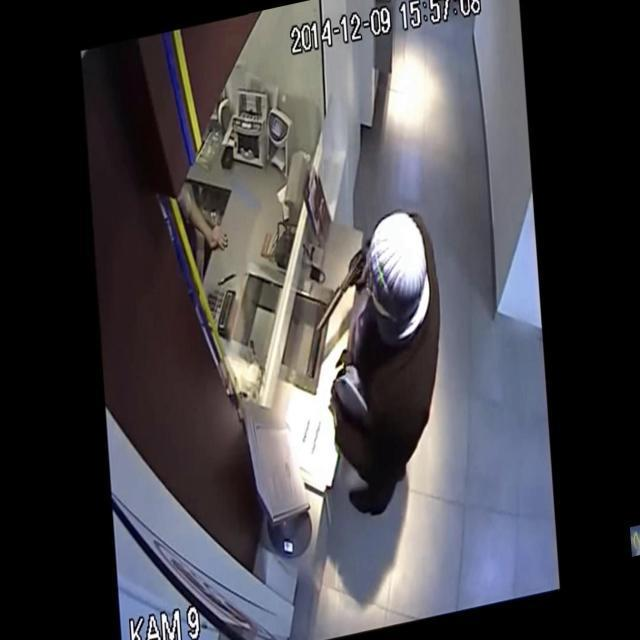pistol: (305, 246, 372, 336)
